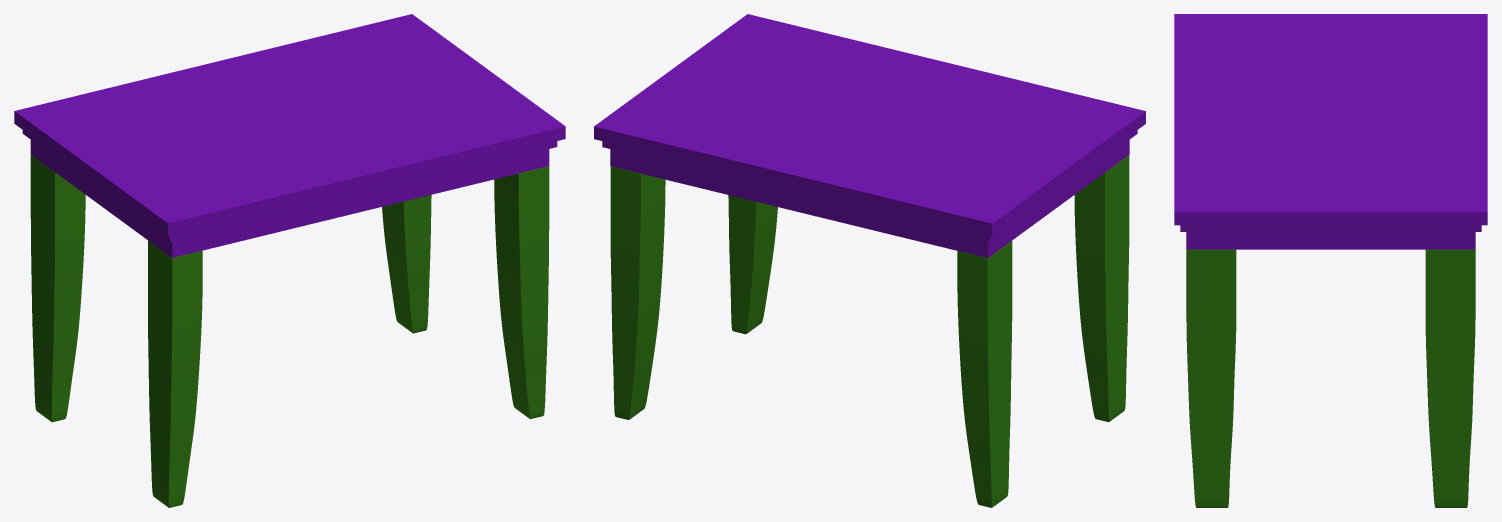
Rendered from high_wooden_table.fbx.
3 renders of one model, left to right at view 1: azimuth 30°, elevation 25°; view 2: azimuth 150°, elevation 25°; view 3: azimuth 270°, elevation 25°, orthographic. The views are drawn at different scales.
Visible parts, largest first — view 1: high_tabletop, high_leg (×4); view 2: high_tabletop, high_leg (×4); view 3: high_tabletop, high_leg (×2).
Boxes of the visible parts, x1,y1,x2,y2 form: high_tabletop: (14,14,565,257); high_leg (×4): (30,155,549,507); high_tabletop: (594,14,1145,258); high_leg (×4): (610,155,1129,507); high_tabletop: (1174,14,1487,249); high_leg (×2): (1186,249,1475,507).
Size of the model in its own units: 41.53 by 29.53 by 27.75.
